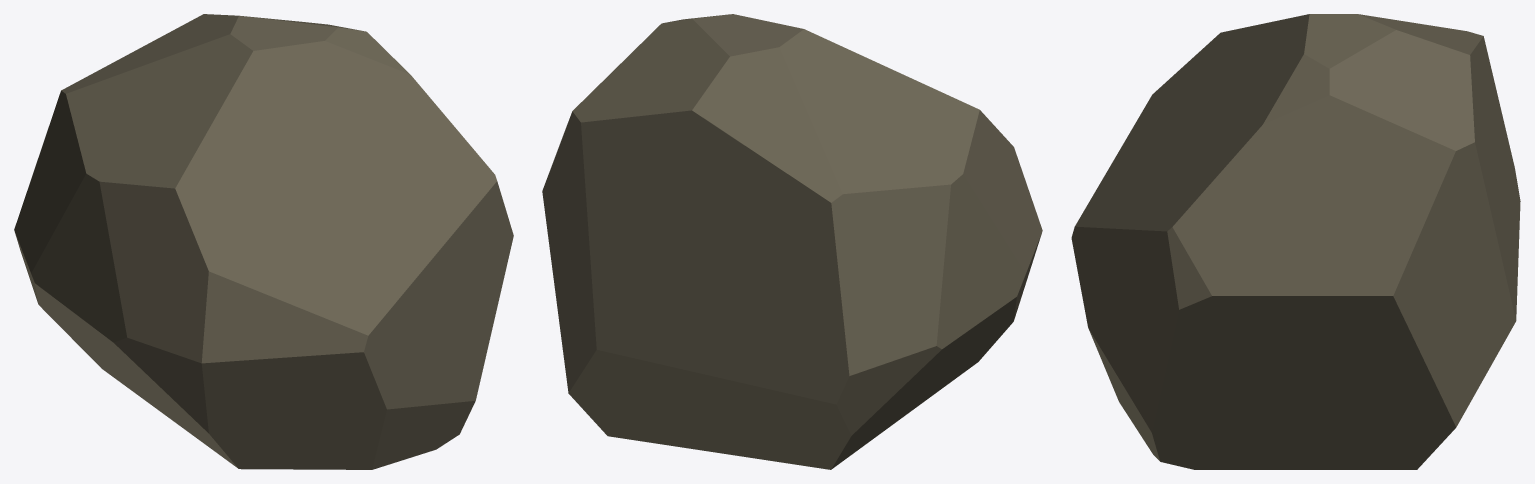
File: Rock_12.fbx
3 views of the same model, side by side, from view 1: azimuth 30°, elevation 25°; view 2: azimuth 150°, elevation 25°; view 3: azimuth 270°, elevation 25° (orthographic). The views are drawn at different scales.
Parts seen in each view (by area): view 1: Rock_12_LOD0; view 2: Rock_12_LOD0; view 3: Rock_12_LOD0.
Boxes of the visible parts, x1,y1,x2,y2 form: Rock_12_LOD0: [14, 14, 513, 469]; Rock_12_LOD0: [542, 14, 1042, 469]; Rock_12_LOD0: [1071, 14, 1520, 469].
Size of what is drawn, in the model's own units: 0.8876 by 0.8398 by 0.8783.
